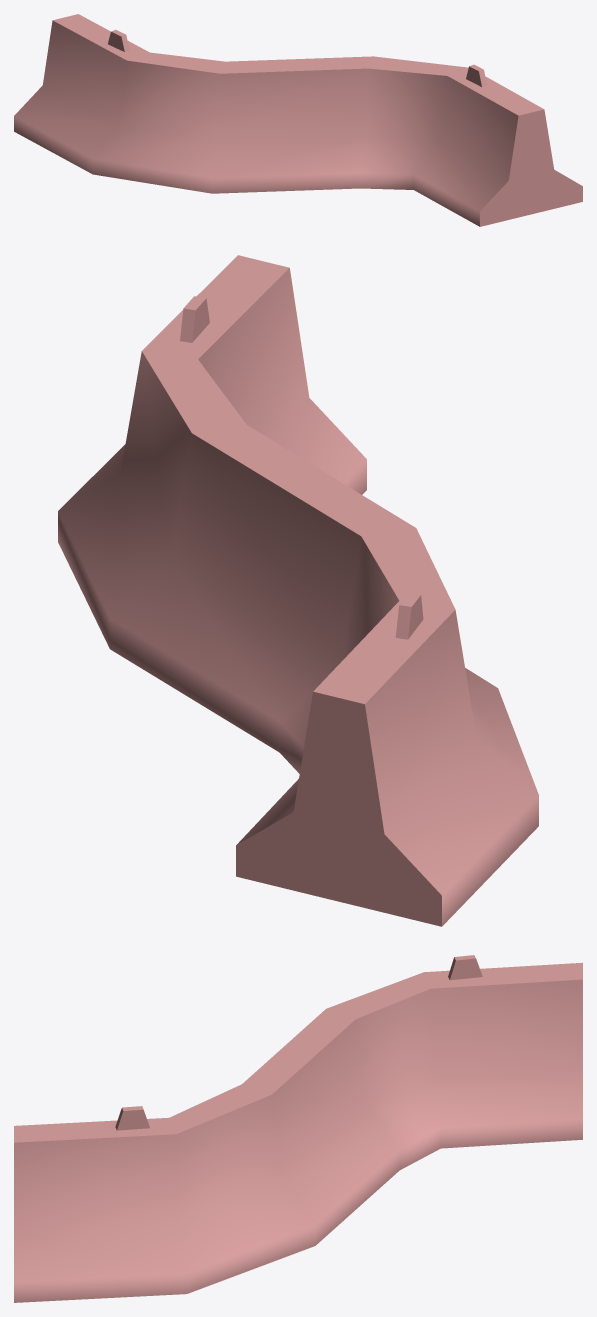
Rendered from ConcreteBarrier_A_F_COL.fbx.
3 renders of one model, top to bottom at view 1: azimuth 30°, elevation 25°; view 2: azimuth 150°, elevation 25°; view 3: azimuth 270°, elevation 25°, orthographic. The views are drawn at different scales.
Parts seen in each view (by area): view 1: ConcreteBarrier_A_F_COL; view 2: ConcreteBarrier_A_F_COL; view 3: ConcreteBarrier_A_F_COL.
Boxes of the visible parts, box(x1,y1,x2,y2) form: ConcreteBarrier_A_F_COL: box(14, 14, 582, 226); ConcreteBarrier_A_F_COL: box(58, 255, 538, 926); ConcreteBarrier_A_F_COL: box(14, 955, 582, 1302).
Bounding box in the file's own units: 287 × 89.9 × 300.
